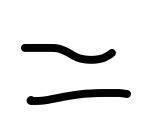eqv: (21, 43, 131, 105)
